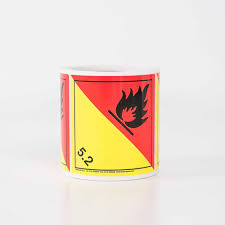OrganicPeroxide: (70, 74, 155, 177)
